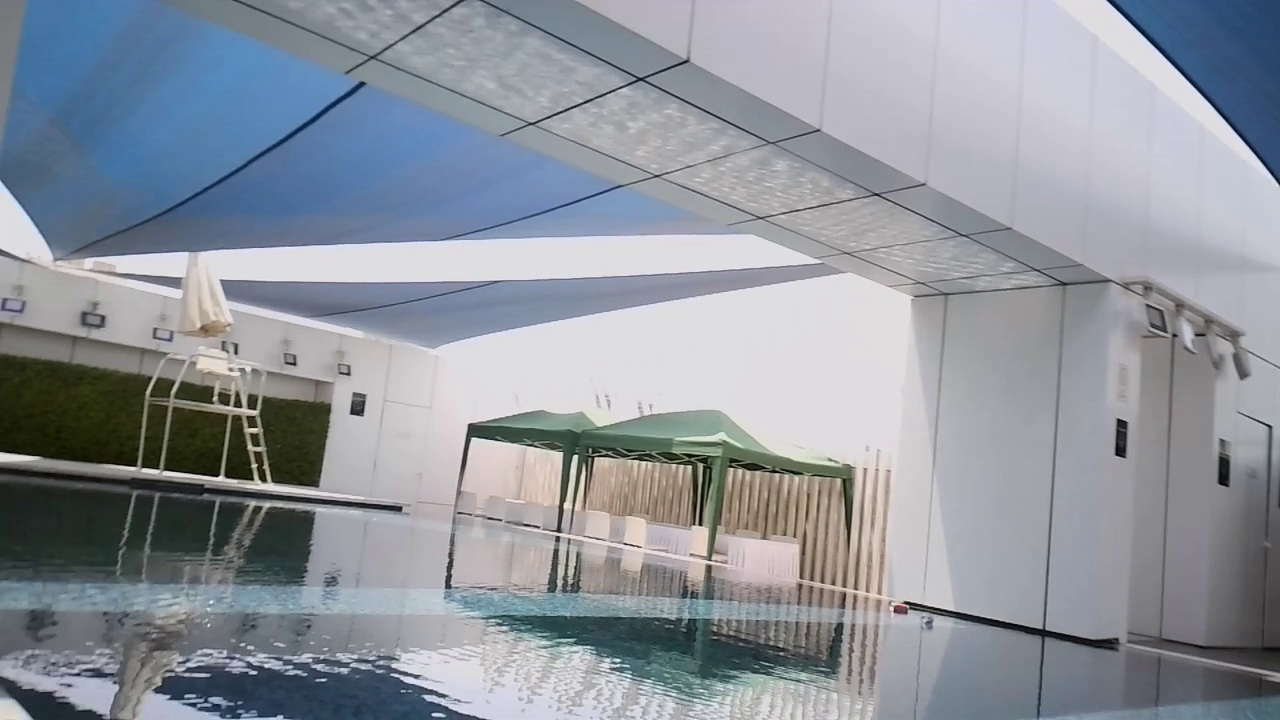debris: (889, 599, 912, 618), (917, 609, 936, 630)
